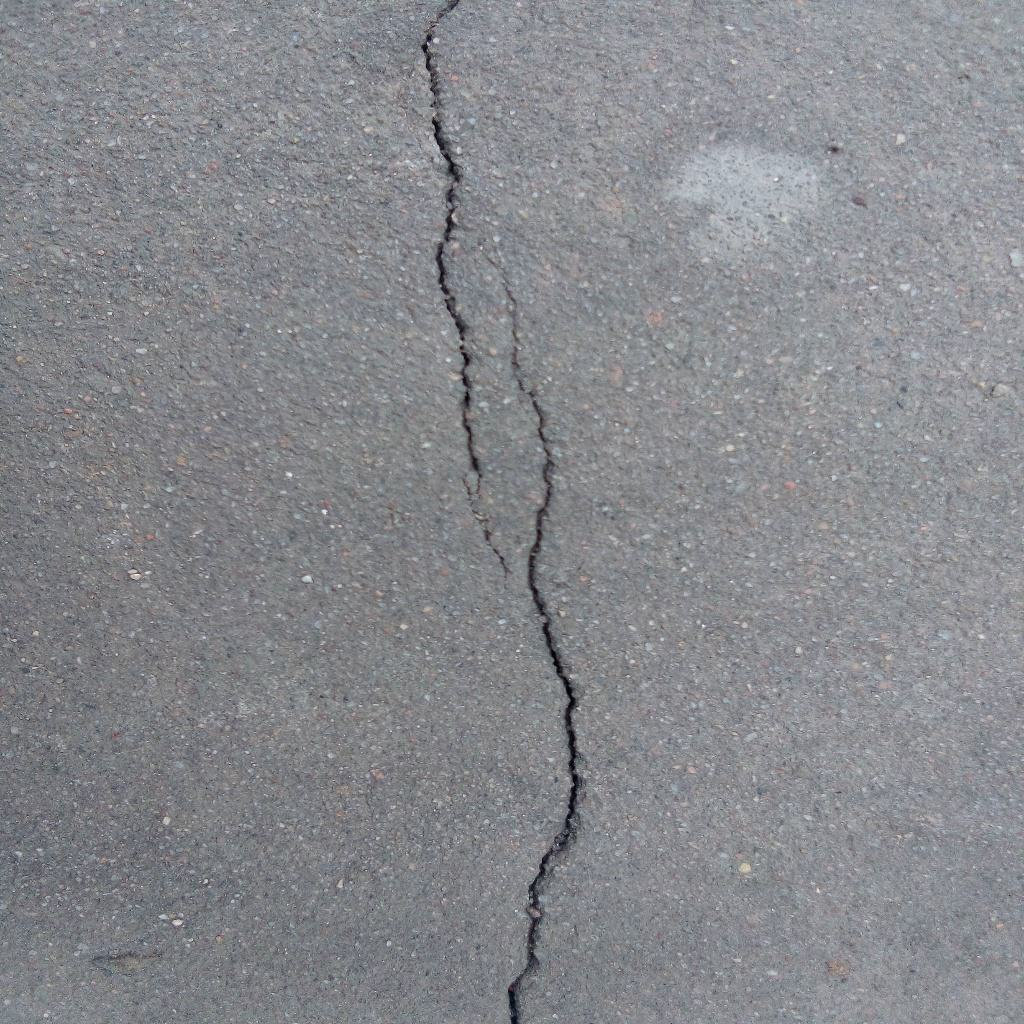Crack: (507, 263, 583, 1024), (418, 1, 513, 575)
